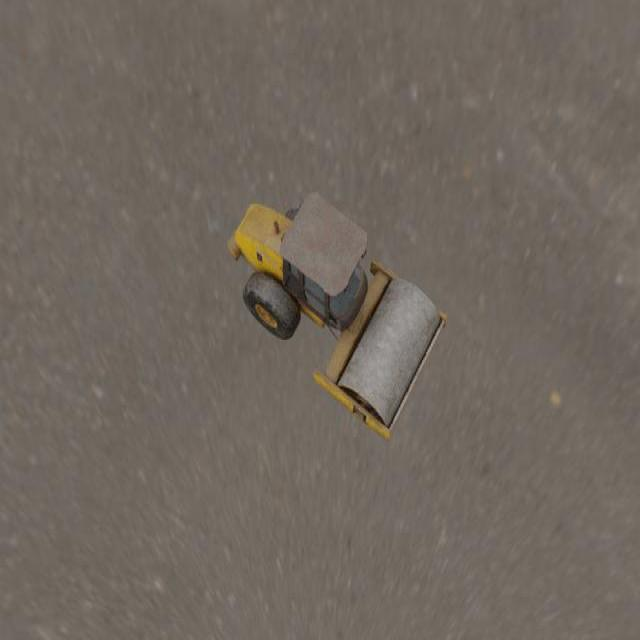Roller: (227, 191, 448, 441)
